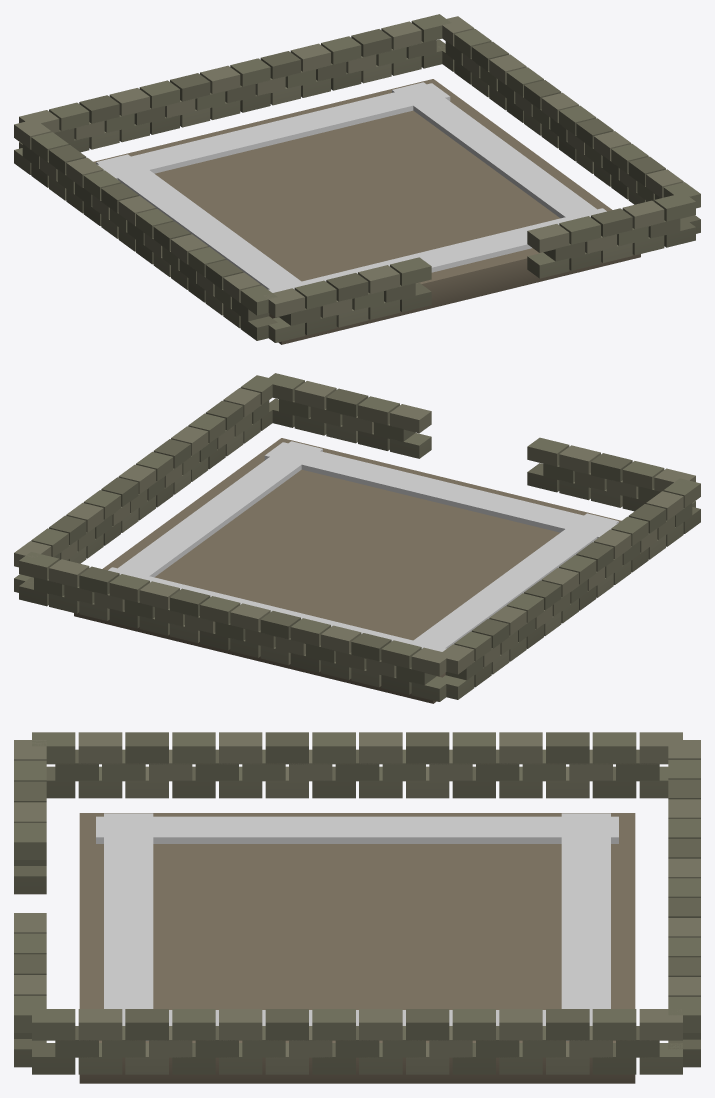
The model's file is m_turret_3d32ef34.glb.
The picture shows the model from 3 angles, top to bottom: view 1: azimuth 30°, elevation 25°; view 2: azimuth 150°, elevation 25°; view 3: azimuth 270°, elevation 25°; orthographic projection. The views are drawn at different scales.
Parts seen in each view (by area): view 1: mesh; view 2: mesh; view 3: mesh.
Boxes of the visible parts, x1=… form: mesh: x1=14, y1=14, x2=700, y2=344; mesh: x1=14, y1=373, x2=700, y2=703; mesh: x1=14, y1=732, x2=700, y2=1083.
Size of the model in its own units: 41.91 by 5.95 by 41.91.
